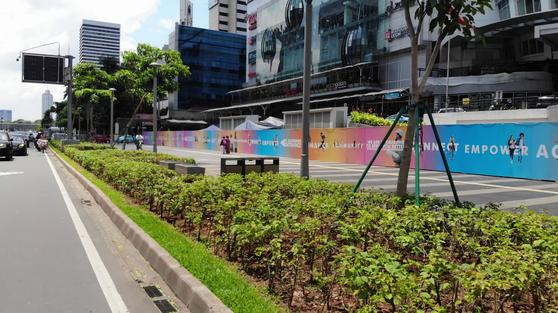bike: (136, 136, 147, 154)
